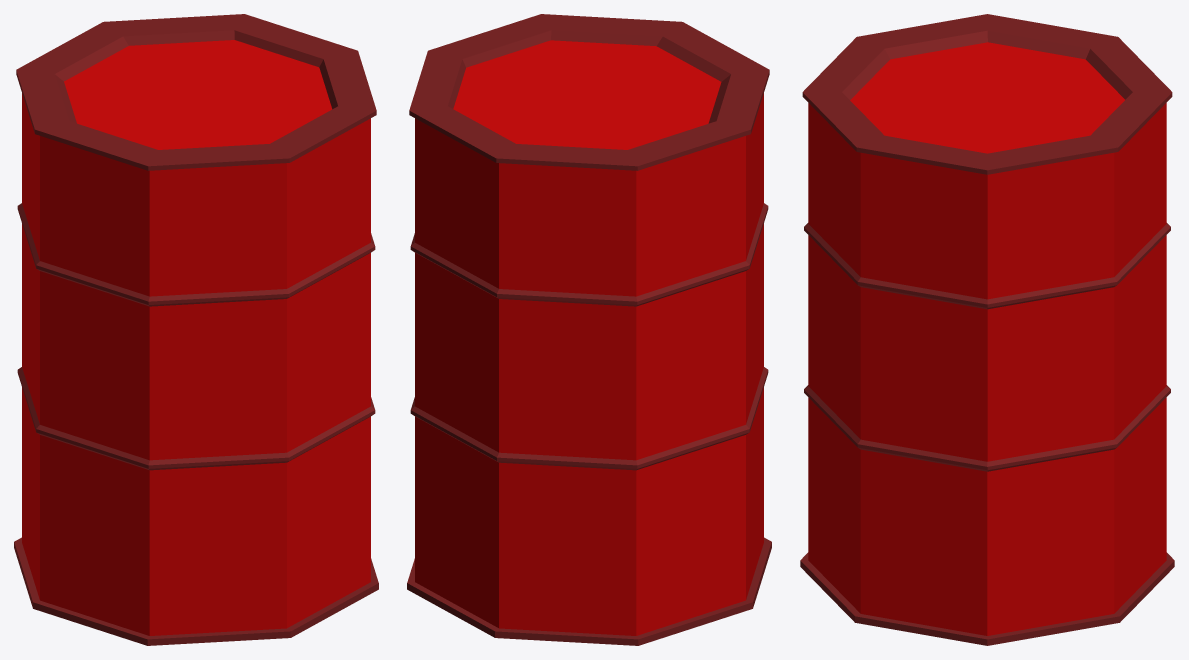
Rendered from Barrel.fbx.
3 renders of one model, left to right at view 1: azimuth 30°, elevation 25°; view 2: azimuth 150°, elevation 25°; view 3: azimuth 270°, elevation 25°, orthographic.
Visible parts, largest first — view 1: Barrel; view 2: Barrel; view 3: Barrel.
Boxes of the visible parts, x1,y1,x2,y2 form: Barrel: (14, 14, 378, 645); Barrel: (407, 14, 771, 645); Barrel: (800, 14, 1174, 645).
Bounding box in the file's own units: 955 × 1336 × 955.
